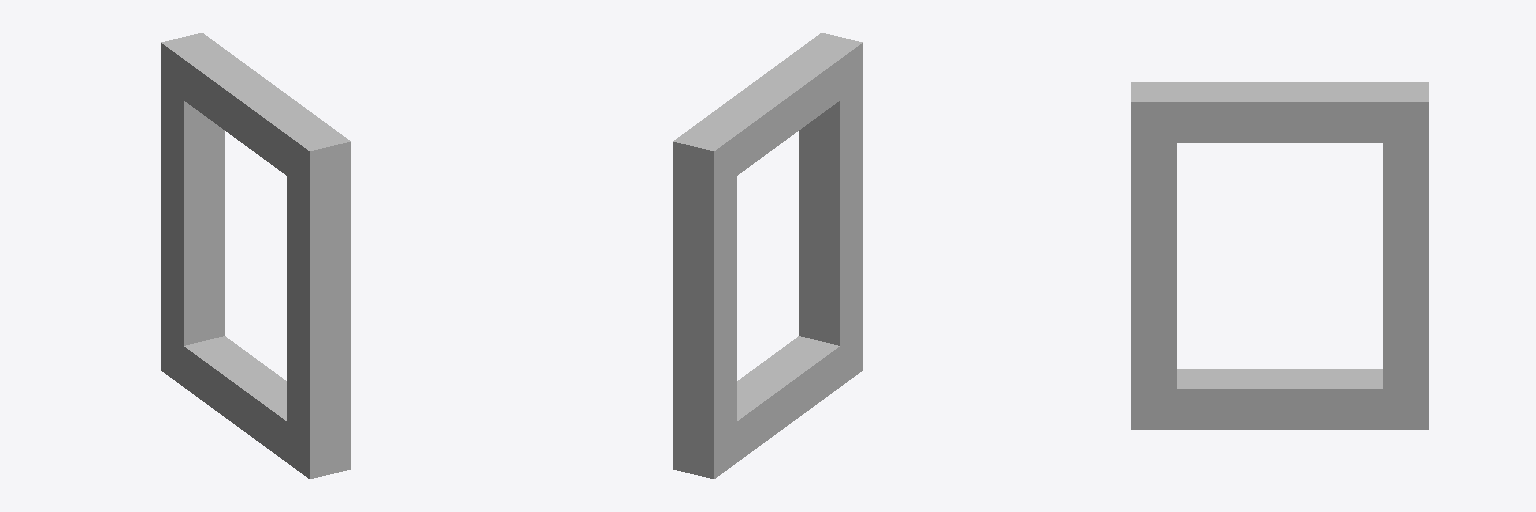
3 views of the same model, side by side, from view 1: azimuth 30°, elevation 25°; view 2: azimuth 150°, elevation 25°; view 3: azimuth 270°, elevation 25° (orthographic).
Visible parts, largest first — view 1: G-__556284_G-__556284_Metal; view 2: G-__556284_G-__556284_Metal; view 3: G-__556284_G-__556284_Metal.
Boxes of the visible parts, box(x1,y1,x2,y2) form: G-__556284_G-__556284_Metal: box(161, 33, 350, 478); G-__556284_G-__556284_Metal: box(673, 33, 862, 478); G-__556284_G-__556284_Metal: box(1131, 82, 1428, 429).
Bounding box in the file's own units: 0.05 × 0.38 × 0.3125.